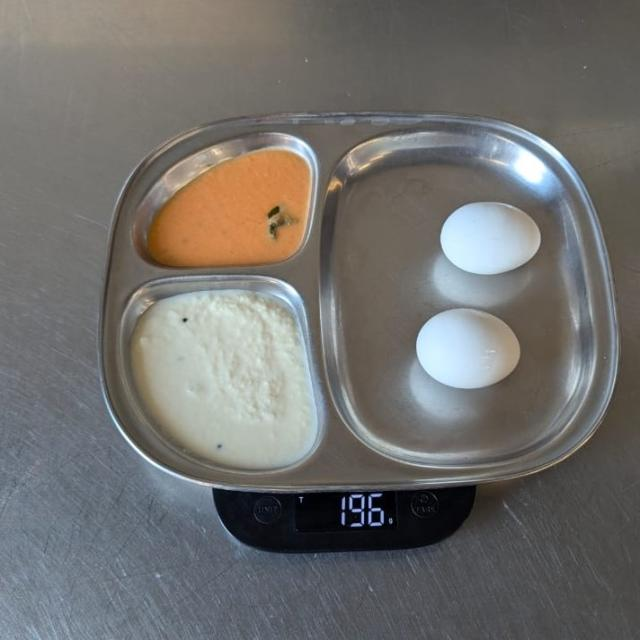Boiled Egg: (415, 189, 543, 391)
Chutney: (123, 285, 324, 475), (139, 144, 313, 263)
